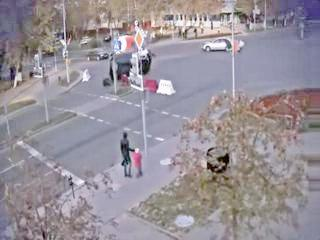Car: (111, 54, 152, 78), (203, 39, 243, 52), (89, 49, 107, 60)
